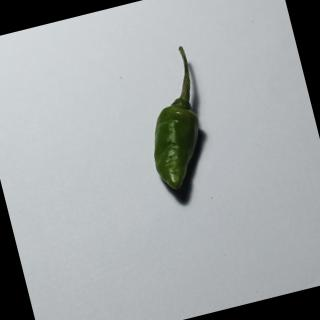Cabai Hijau: (120, 37, 231, 208)
